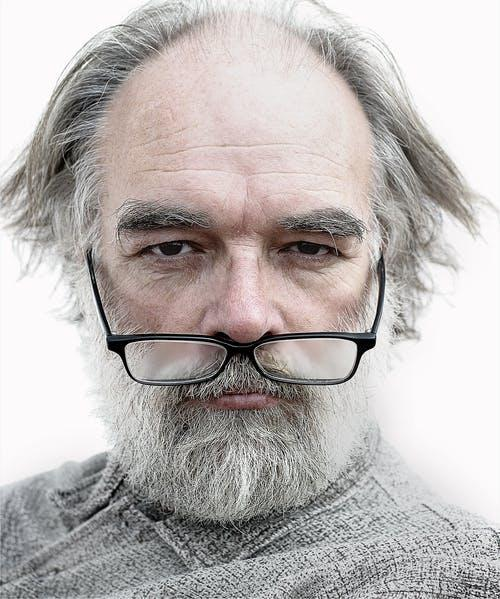Wrinkles: (152, 142, 305, 156), (136, 128, 185, 145), (297, 152, 348, 167), (251, 171, 342, 179), (305, 188, 345, 194), (164, 169, 220, 172), (134, 169, 159, 173), (168, 189, 212, 191)
